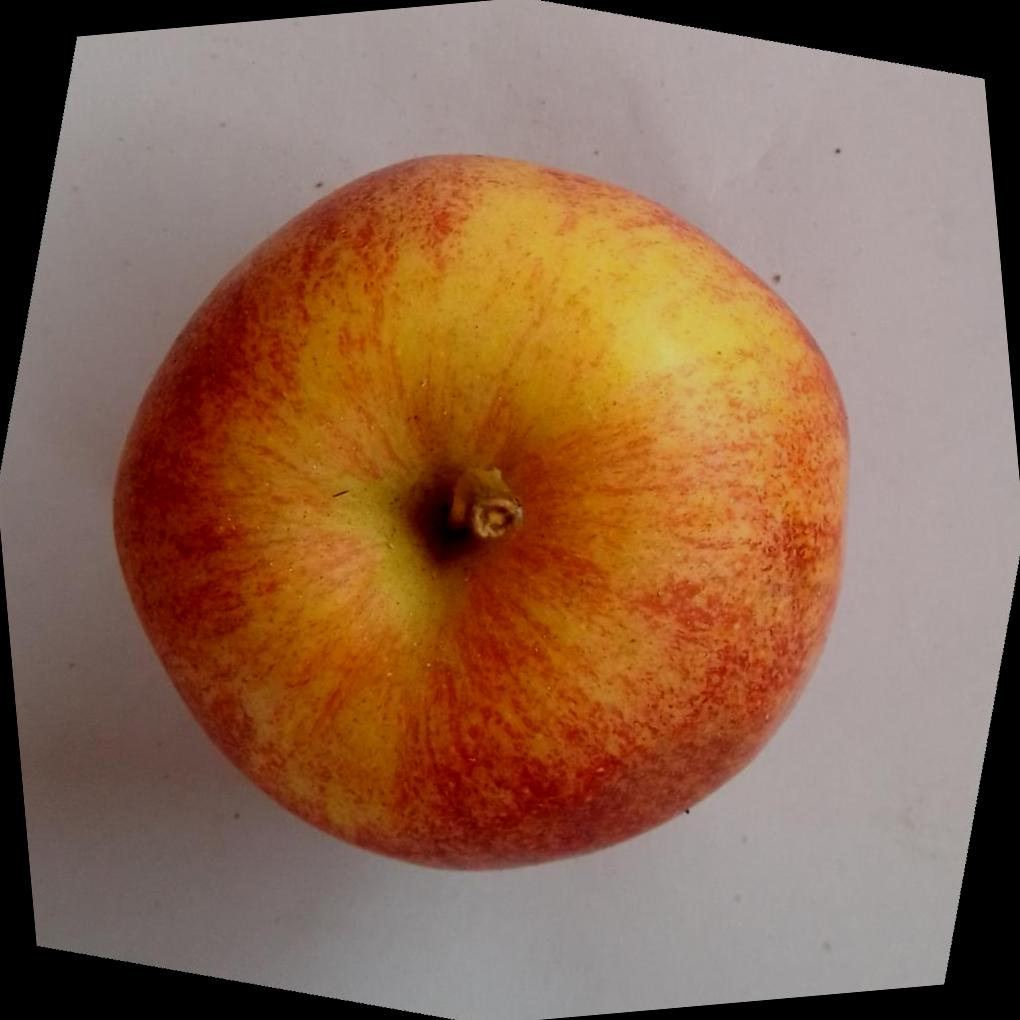FreshGuava: (109, 153, 852, 875)
